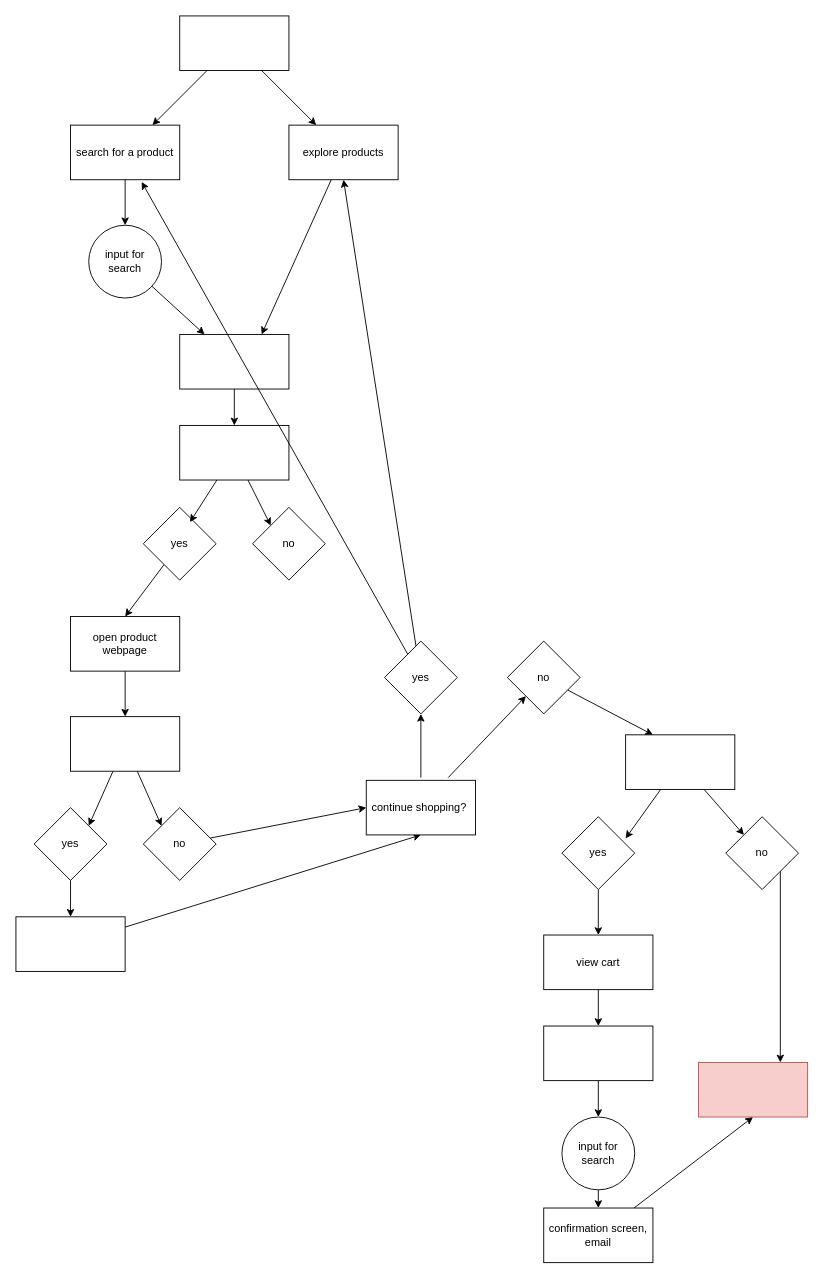
The diagram is 824 pixels wide and 1279 high, and some of its shapes have lost their labels. Each missing label, with the centre of its shape:
"add to cart?" belongs at point (125, 743).
"cart confirmation, add to cart" belongs at point (70, 943).
"checkout?" belongs at point (680, 761).
"leave site" belongs at point (753, 1089).
"product result view" belongs at point (234, 361).
"view payment" belongs at point (598, 1053).
"view specific product?" belongs at point (234, 452).
"website entry" belongs at point (234, 43).
